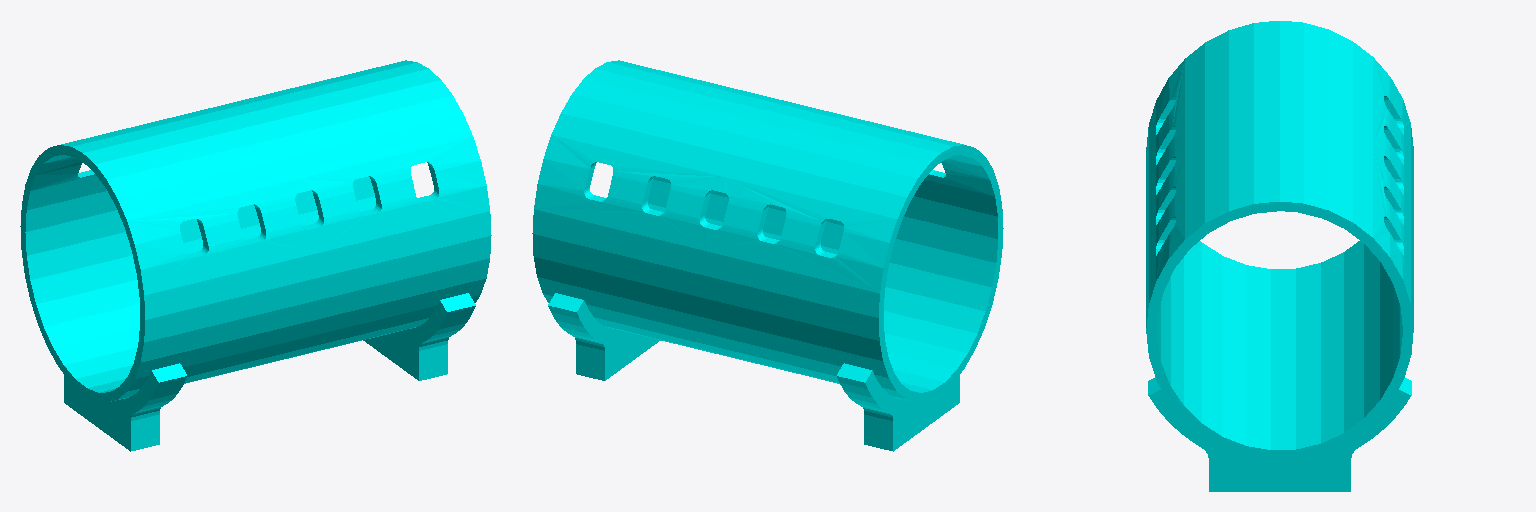
URDF robot description (fuselage):
<?xml version="1.0" ?>
<robot name="fuselage">
  
  <link name="world"/>
  
  <joint name="fix_fuselage" type="fixed">
    <parent link="world"/>
    <child link="fuselage_link"/>
  </joint>
  
  <link
    name="fuselage_link">
    <inertial>
      <origin
        xyz="0 0 0"
        rpy="0 0 0" />
      <mass
        value="12144" />
      <inertia
        ixx="37398"
        ixy="-0.0018658"
        ixz="0.0027121"
        iyy="49184"
        iyz="-0.00062593"
        izz="50148" />
    </inertial>
    <visual>
      <origin
        xyz="-0.2 3 -0.4"
        rpy="0 0 0" />
      <geometry>
        <mesh
          filename="model://fuselage/meshes/fuselage.dae" scale="0.25 0.25 0.25"/>
      </geometry>
      <material
        name="Cyan">
        <color
          rgba="0.0 1 1 1" />
      </material>
    </visual>
    <collision>
      <origin
        xyz="-0.2 3 -0.4"
        rpy="0 0 0" />
      <geometry>
        <mesh
          filename="model://fuselage/meshes/fuselage.dae" />
      </geometry>
    </collision>
  </link>
  
  <gazebo reference="fuselage_link">
    <material>Gazebo/Green</material>
  </gazebo>
</robot>

--- Facts derived from the render (not from the file) ---
3 views of the same robot in one strip: view 1: azimuth 30°, elevation 25°; view 2: azimuth 150°, elevation 25°; view 3: azimuth 270°, elevation 25° (orthographic).
Model fuselage with 2 links and 1 joints (1 fixed), rooted at world, posed every joint at zero.
Links seen in each view (by area): view 1: fuselage_link; view 2: fuselage_link; view 3: fuselage_link.
Link boxes in pixels (bbox=[...]): fuselage_link: bbox=[20, 60, 491, 451]; fuselage_link: bbox=[532, 60, 1003, 451]; fuselage_link: bbox=[1146, 21, 1413, 491].
Bounding box of the posed robot: 1.5 × 0.9375 × 1.15 m (x, y, z).
1 mesh visuals loaded from 1 distinct referenced files (1 Collada DAE).